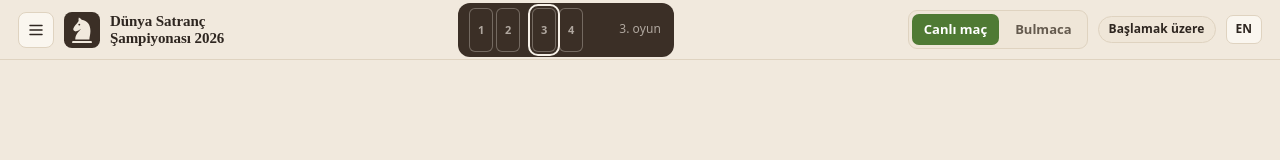
Test: the top bar › the match as a scoreboard › opens a game from its tile
Click the button "1" at (481, 30), box [469,8,493,52]
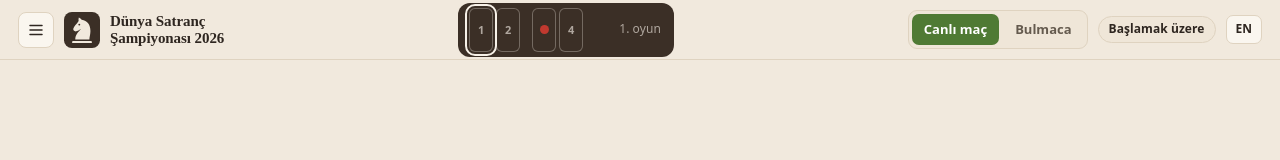
Expected: the text with class "game-now" reads "1. oyun", [619,20,661,37]
